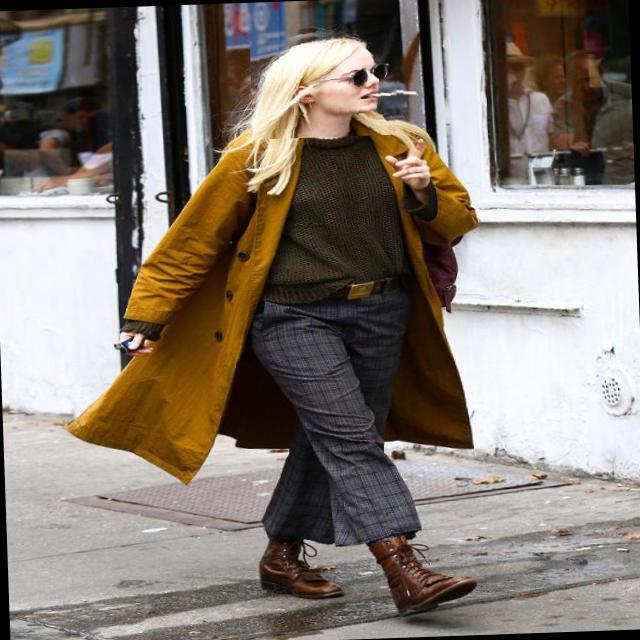cigarette: (368, 82, 424, 100)
